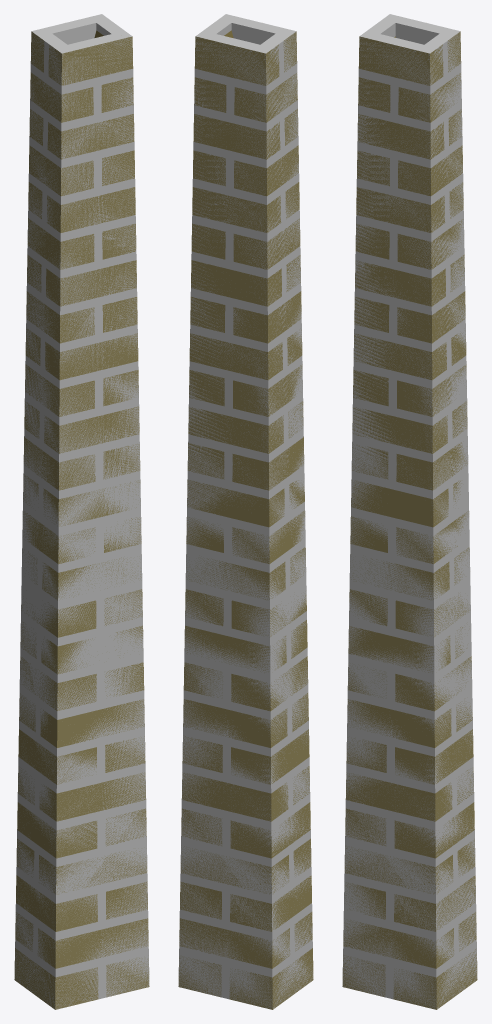
File: Chimneys.fbx
3 views of the same model, side by side, from view 1: azimuth 30°, elevation 25°; view 2: azimuth 150°, elevation 25°; view 3: azimuth 330°, elevation 25° (orthographic).
Visible parts, largest first — view 1: Chimney02UV, Chimney02A; view 2: Chimney02UV, Chimney02A; view 3: Chimney02UV, Chimney02A.
Boxes of the visible parts, bbox=[...] form: Chimney02UV: bbox=[14, 14, 149, 1009]; Chimney02A: bbox=[14, 30, 149, 1009]; Chimney02UV: bbox=[178, 14, 313, 1009]; Chimney02A: bbox=[178, 30, 313, 1009]; Chimney02UV: bbox=[342, 14, 477, 1009]; Chimney02A: bbox=[342, 31, 477, 1009].
Size of what is drawn, in the model's own units: 0.3115 by 3 by 0.2336.
